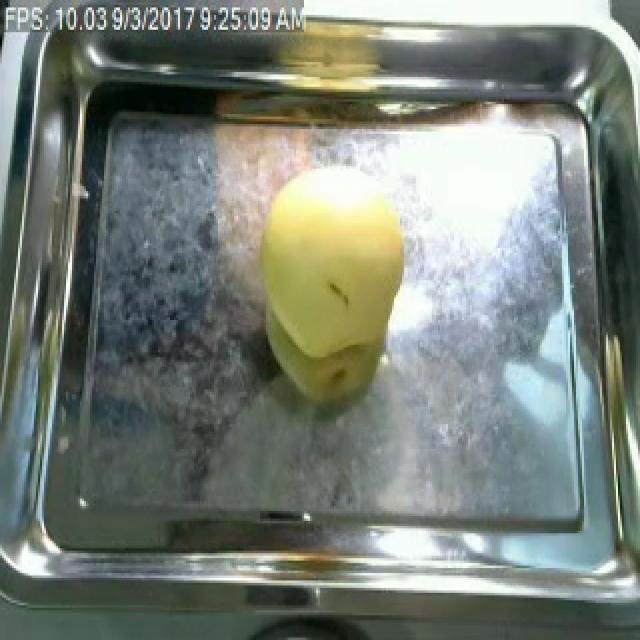Fruit: (202, 166, 418, 372)
